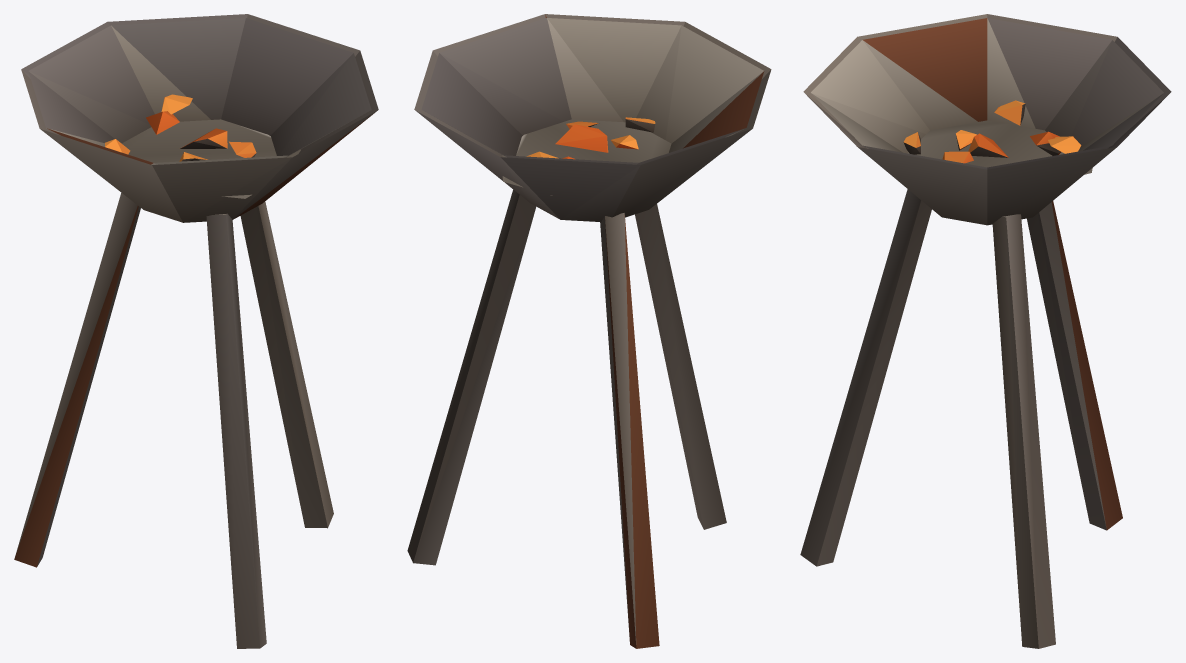
The model's file is ash_brazier_a.glb.
3 renders of one model, left to right at view 1: azimuth 30°, elevation 25°; view 2: azimuth 150°, elevation 25°; view 3: azimuth 270°, elevation 25°, orthographic.
Parts seen in each view (by area): view 1: ca_ash_brazier_a; view 2: ca_ash_brazier_a; view 3: ca_ash_brazier_a.
Boxes of the visible parts, bbox=[...] form: ca_ash_brazier_a: bbox=[14, 14, 378, 648]; ca_ash_brazier_a: bbox=[407, 14, 771, 648]; ca_ash_brazier_a: bbox=[800, 14, 1171, 648].
Bounding box in the file's own units: 0.76 × 1.11 × 0.7659.
Materials: 1 (1 with a texture image).
